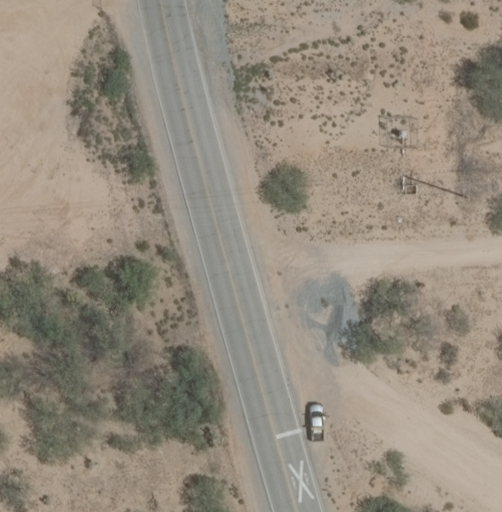DT: (399, 170, 473, 203)
